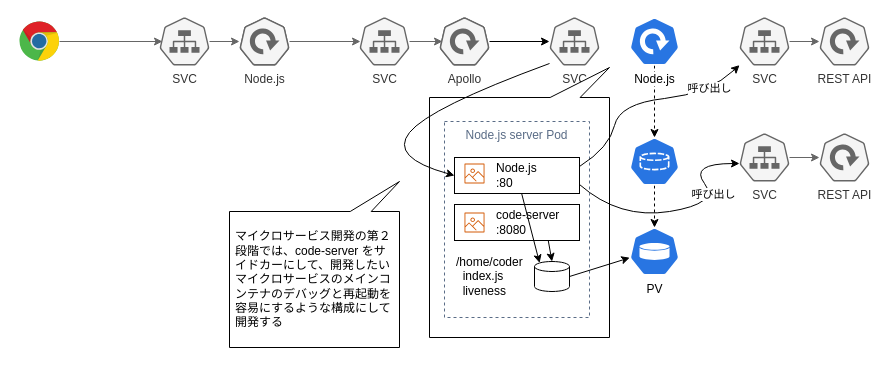
Image size: 889x365. Some labels were removed from this diagram. Here are the shapes that lost their labels. From the top down, the centre of each, then its label:
At (x=39, y=41): "Browser".
At (x=654, y=161): "PVC".
